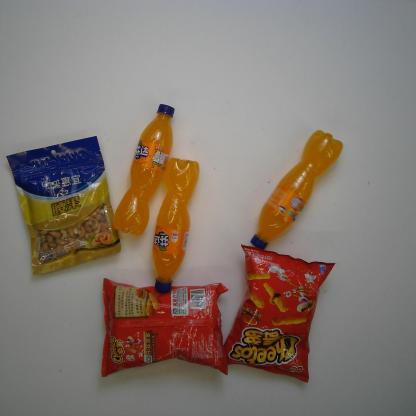Dried Fruit: (4, 132, 122, 277)
Drink: (238, 129, 347, 250), (108, 102, 178, 237), (150, 157, 201, 297)
Puffed Food: (218, 243, 339, 384), (98, 278, 233, 380)
